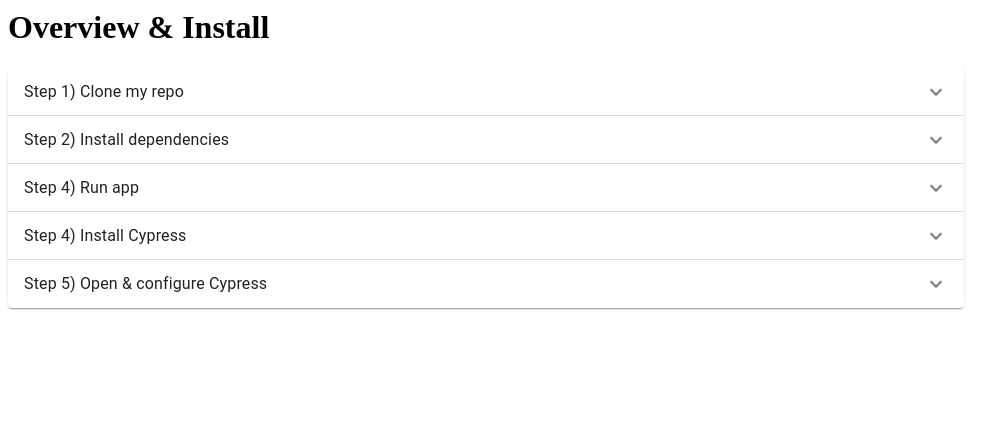
Test case: overview test › overview - accordion works correctly
The width and height of the screenshot is (982, 423).
Check: the text "npm install" is not shown
Click the button "Step 2) Install dependencies" at (127, 139), box [24,128,948,152]
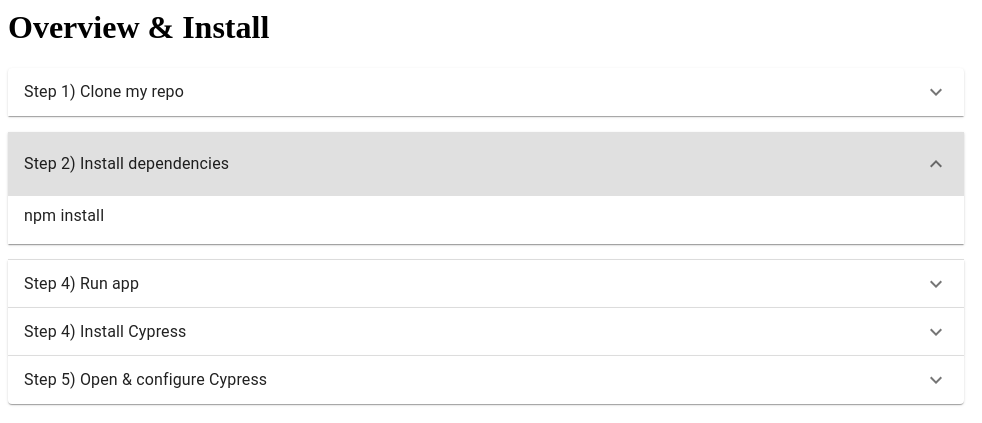
Check: the text "npm install" is shown, box [24,206,104,225]
Click the button "Step 2) Install dependencies" at (127, 163), box [8,132,964,196]
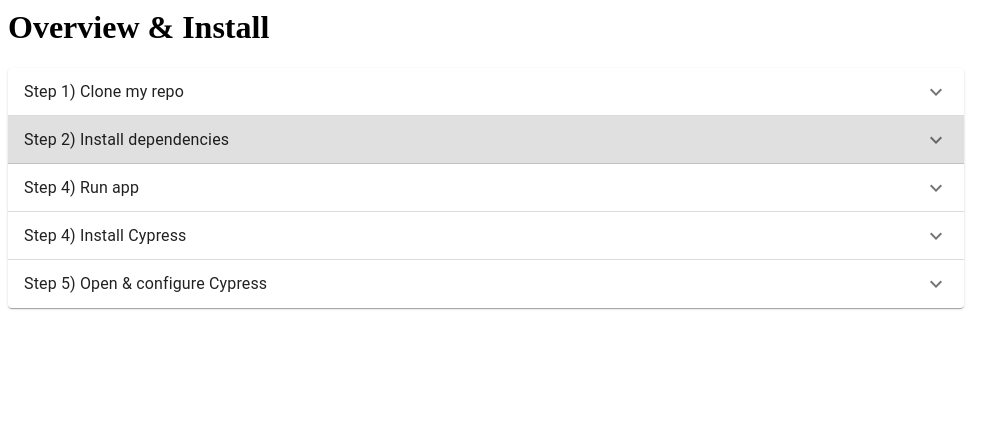
Check: the text "npm install" is gone
